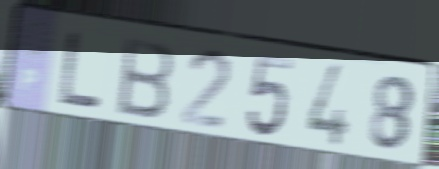2: (179, 45, 235, 133)
4: (304, 59, 353, 151)
5: (243, 52, 297, 138)
8: (368, 73, 416, 153)
B: (115, 34, 177, 122)
L: (57, 28, 106, 111)
